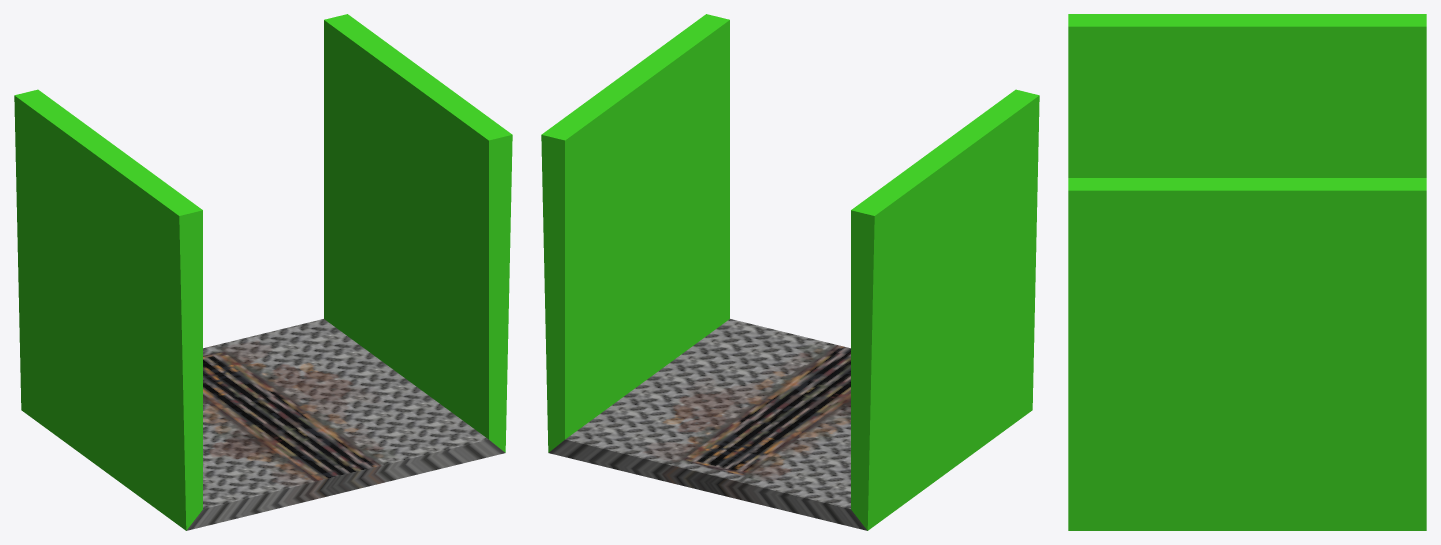
File: FloorTile.003.fbx
3 renders of one model, left to right at view 1: azimuth 30°, elevation 25°; view 2: azimuth 150°, elevation 25°; view 3: azimuth 270°, elevation 25°, orthographic. The views are drawn at different scales.
Visible parts, largest first — view 1: FloorTile.003; view 2: FloorTile.003; view 3: FloorTile.003.
Part boxes in pixels (box(x1,y1,x2,y2)): FloorTile.003: box(14, 14, 512, 530); FloorTile.003: box(541, 14, 1039, 530); FloorTile.003: box(1068, 14, 1426, 530).
Size of the model in its own units: 700 by 635 by 600.
